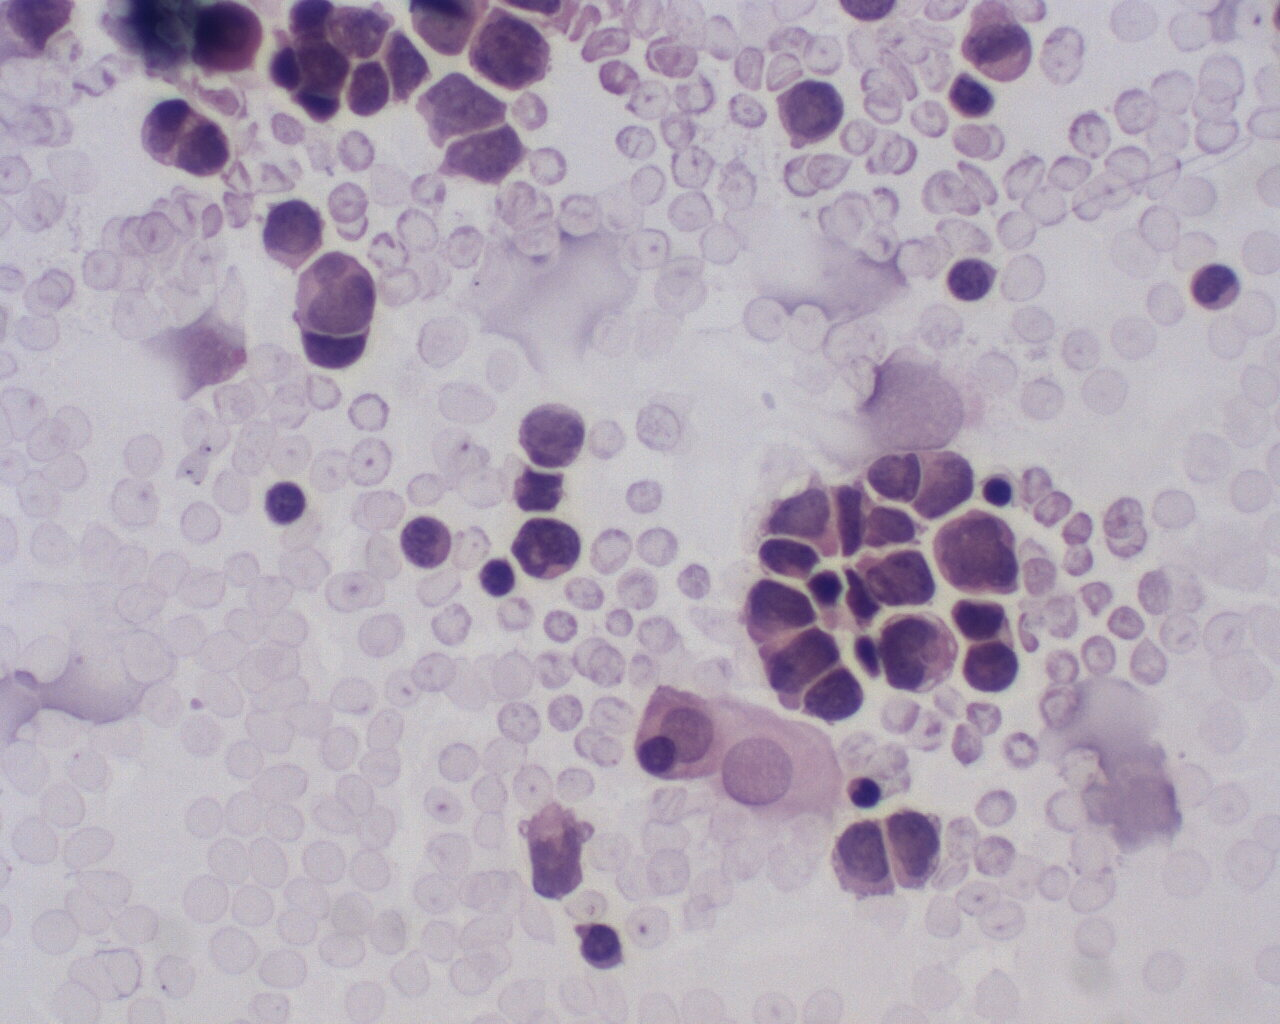ab: (288, 245, 390, 376), (461, 1, 559, 91), (932, 504, 1021, 597), (510, 376, 603, 464), (773, 67, 865, 155), (140, 99, 233, 178), (765, 620, 850, 705), (877, 608, 959, 695), (248, 197, 342, 271), (737, 575, 828, 645), (516, 512, 595, 588), (877, 809, 946, 890), (827, 818, 893, 902), (804, 661, 869, 725)
